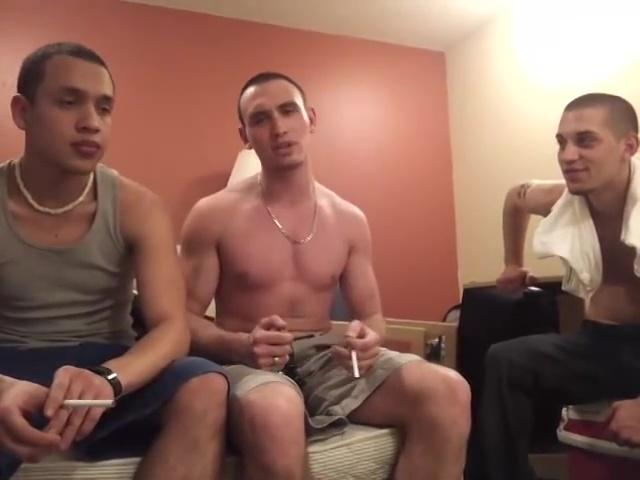cigarette: (59, 394, 121, 414), (350, 345, 364, 383)
